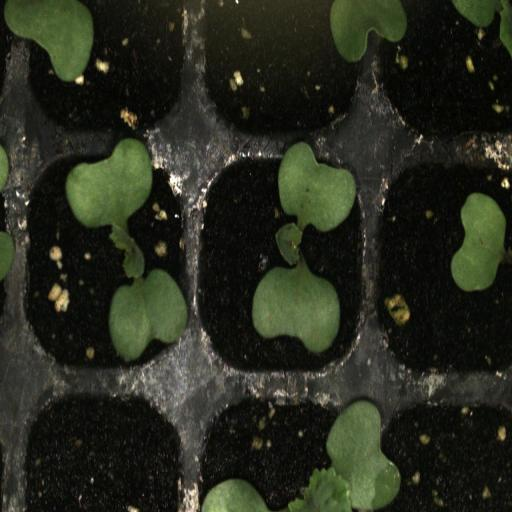Folha: (0, 0, 94, 82), (451, 192, 506, 292), (329, 0, 407, 62), (452, 0, 512, 53), (201, 479, 269, 512)
Germinacao: (190, 142, 372, 381), (17, 138, 191, 382), (192, 384, 370, 512)
